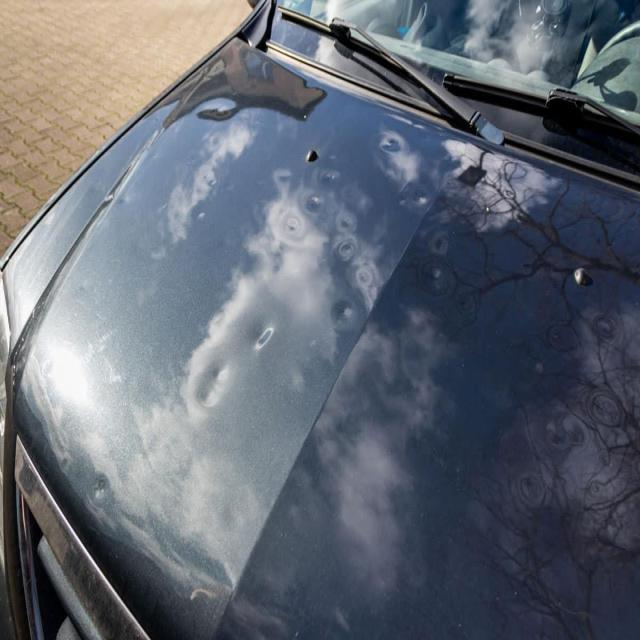dent: (195, 356, 234, 413), (547, 416, 589, 451), (589, 392, 624, 431), (419, 256, 451, 295), (251, 316, 282, 354), (330, 297, 359, 336), (518, 469, 545, 506), (375, 131, 406, 160), (86, 474, 112, 508), (594, 311, 618, 343), (334, 236, 359, 265), (280, 207, 304, 236), (335, 208, 358, 237), (428, 232, 453, 256), (408, 185, 434, 208), (303, 190, 323, 216), (319, 166, 340, 185)
